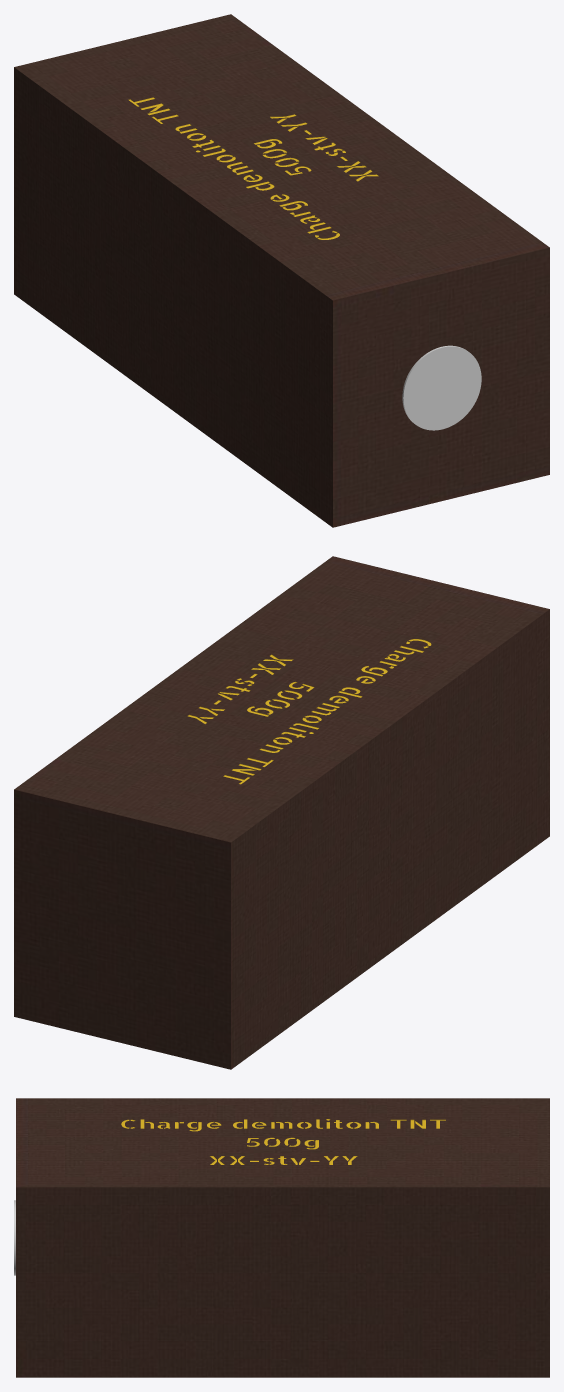
Rendered from TNT_500g.gltf.
3 renders of one model, top to bottom at view 1: azimuth 30°, elevation 25°; view 2: azimuth 150°, elevation 25°; view 3: azimuth 270°, elevation 25°, orthographic. The views are drawn at different scales.
Parts seen in each view (by area): view 1: S4-TNN-0384 (×2), S4-TNN-0385, S4-TNN-0387; view 2: S4-TNN-0384 (×2); view 3: S4-TNN-0384 (×2).
Part boxes in pixels (x1,y1,x2,y2): S4-TNN-0384 (×2): (14, 14, 548, 526); S4-TNN-0385: (332, 247, 549, 527); S4-TNN-0387: (402, 345, 481, 430); S4-TNN-0384 (×2): (14, 556, 549, 1069); S4-TNN-0384 (×2): (16, 1098, 549, 1377).
Size of the model in its own units: 0.05 by 0.05 by 0.1276.
8 materials, 2 textured.
